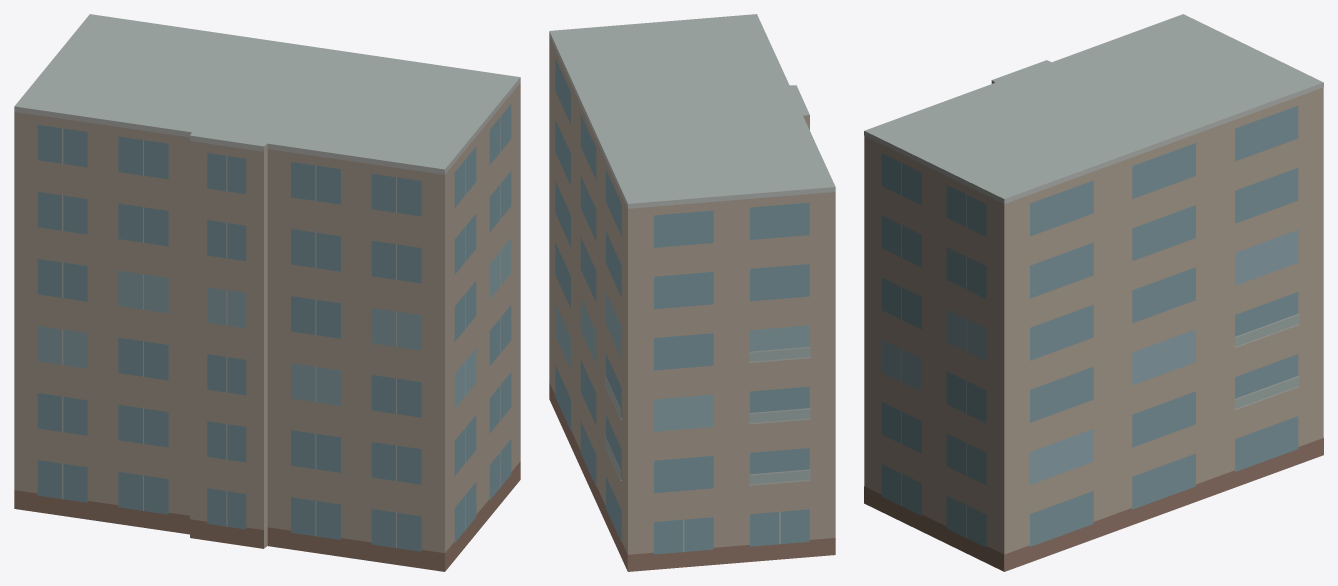
The model's file is survey-upis-32627314.glb.
3 views of the same model, side by side, from view 1: azimuth 30°, elevation 25°; view 2: azimuth 150°, elevation 25°; view 3: azimuth 270°, elevation 25° (orthographic). The views are drawn at different scales.
Parts seen in each view (by area): view 1: survey-upis-32627314.tmp; view 2: survey-upis-32627314.tmp; view 3: survey-upis-32627314.tmp.
Part boxes in pixels (left/top/right/bottom): survey-upis-32627314.tmp: left=14, top=14, right=520, bottom=571; survey-upis-32627314.tmp: left=549, top=14, right=835, bottom=571; survey-upis-32627314.tmp: left=864, top=14, right=1323, bottom=571.
Bounding box in the file's own units: 19.51 × 18.3 × 20.46.
